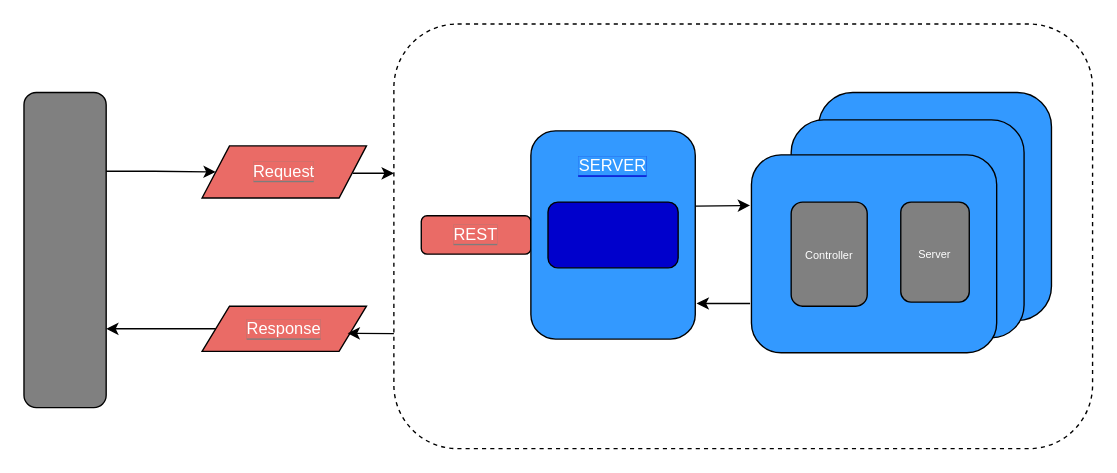
The diagram is 1117 pixels wide and 473 high, and some of its shapes have lost their labels. Each missing label, with the centre of its shape:
Client: (64,249)
Express: (612,234)
